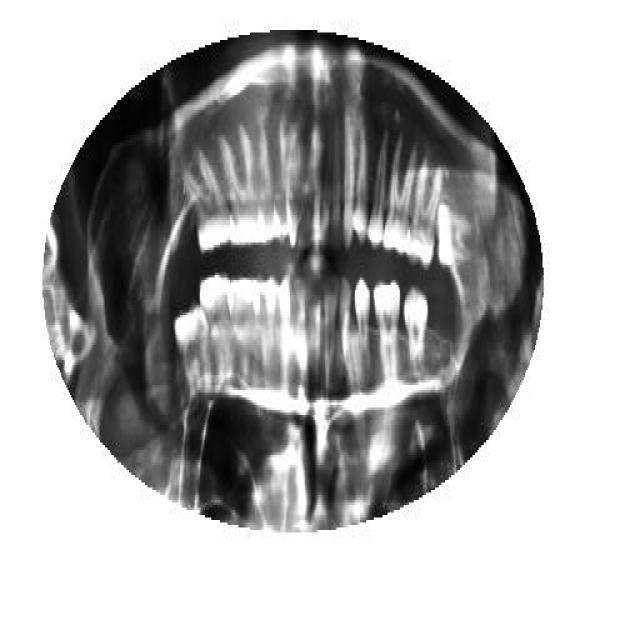Impacted Tooth: (436, 202, 475, 270)
